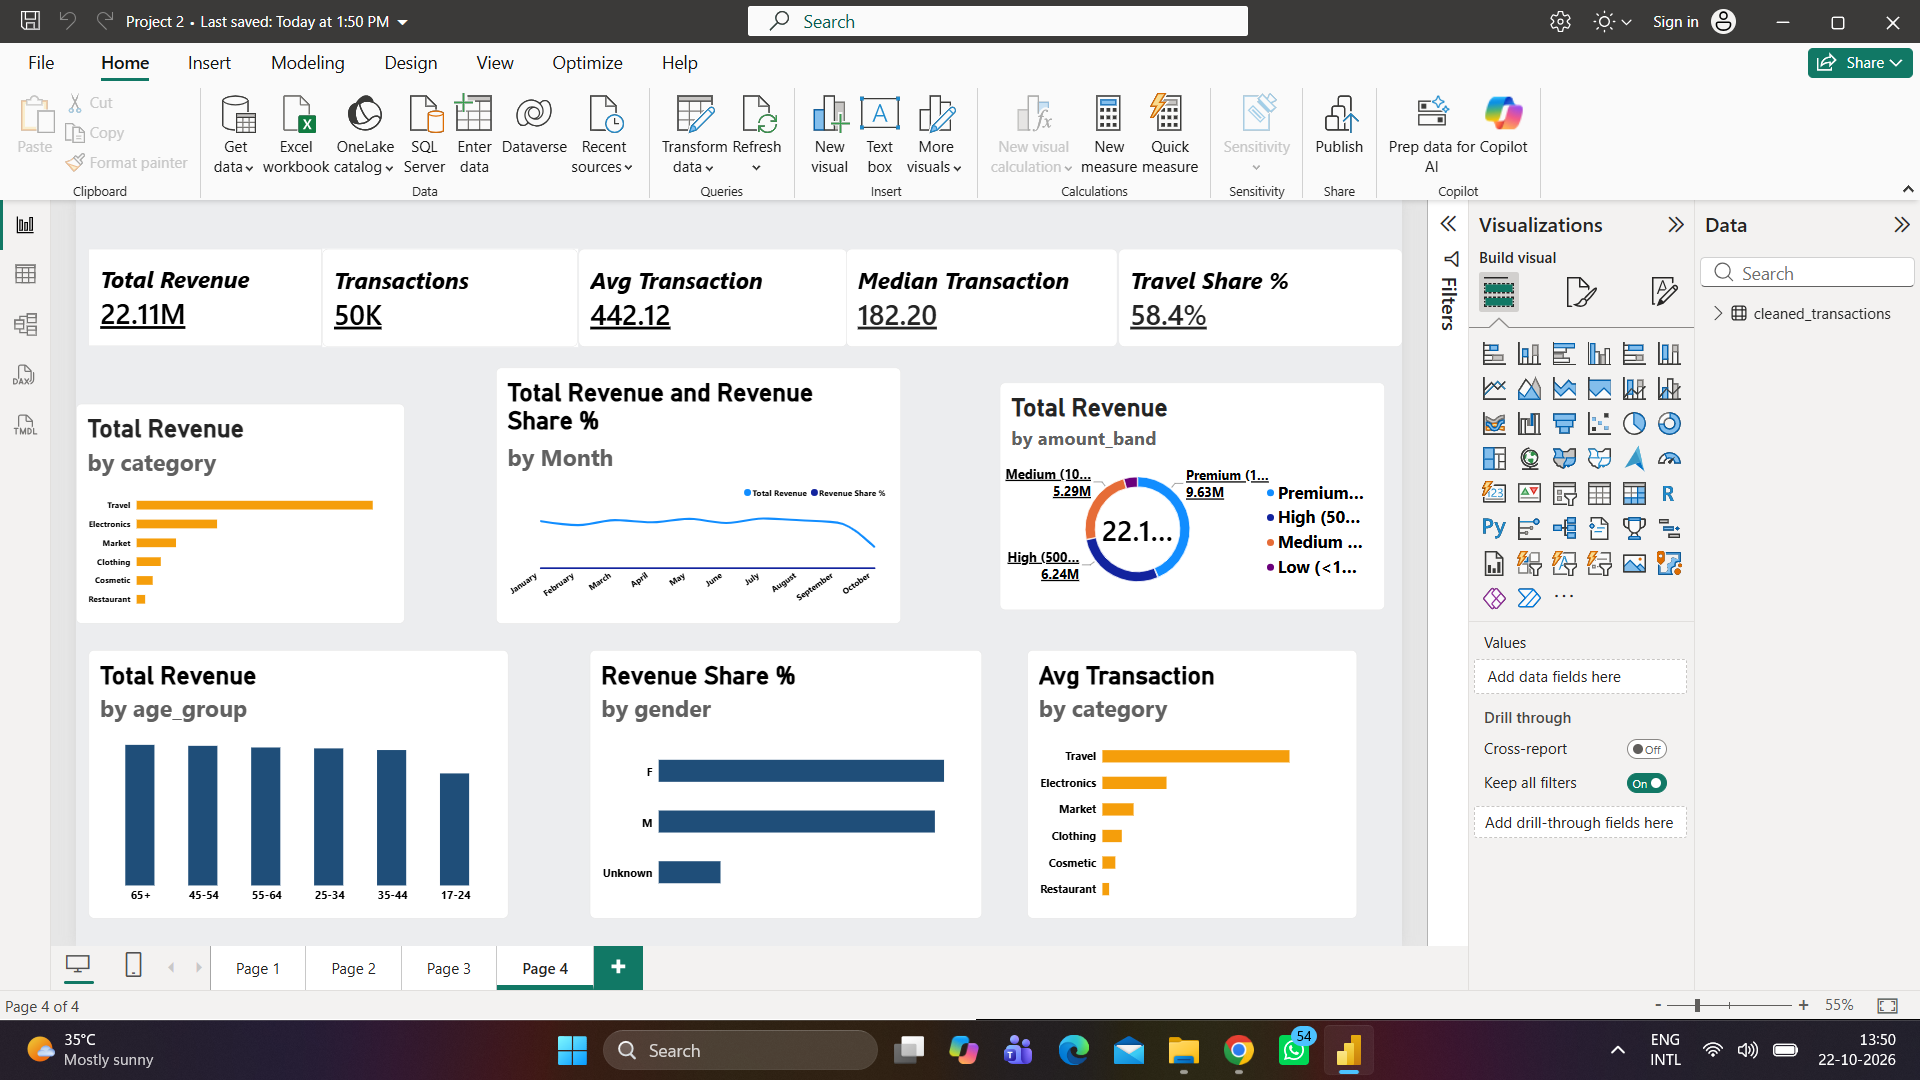

This screenshot's page, from the dashboard's own definition file:
{"tool":"powerbi","page":{"name":"Page 1","canvas":[1920,1080],"ordinal":0},"visuals":[{"type":"cardVisual","title":"Transactions","fields":{"Data":["cleaned_transactions.Transactions"]},"box":[356.5,70.6,370.5,142],"z":0},{"type":"cardVisual","fields":{"Data":["cleaned_transactions.Total Revenue"]},"box":[0,70.6,356.5,141.2],"z":1},{"type":"cardVisual","fields":{"Data":["cleaned_transactions.Avg Transaction"]},"box":[727.5,70.6,389,142],"z":2},{"type":"cardVisual","fields":{"Data":["cleaned_transactions.Median Transaction"]},"box":[1114.8,70.6,393.1,142],"z":3},{"type":"cardVisual","fields":{"Data":["cleaned_transactions.Travel Share %"]},"box":[1509.3,70.6,411.7,142],"z":4},{"type":"barChart","fields":{"Category":["cleaned_transactions.category"],"Y":["cleaned_transactions.Total Revenue"]},"box":[18.1,242.5,571.9,371],"z":5},{"type":"lineChart","fields":{"Category":["cleaned_transactions.date.Variation.Date Hierarchy.Month"],"Y":["cleaned_transactions.Total Revenue","cleaned_transactions.Revenue Share %"]},"box":[608,242.5,662.3,371],"z":6},{"type":"donutChart","fields":{"Category":["cleaned_transactions.amount_band"],"Y":["cleaned_transactions.Total Revenue"]},"box":[1312,242.5,582.7,351.1],"z":7},{"type":"columnChart","fields":{"Category":["cleaned_transactions.age_group"],"Y":["cleaned_transactions.Total Revenue"]},"box":[18.1,651.5,608,389.1],"z":8},{"type":"barChart","fields":{"Category":["cleaned_transactions.gender"],"Y":["cleaned_transactions.Revenue Share %"]},"box":[743.8,651.5,568.2,389.1],"z":9},{"type":"barChart","fields":{"Category":["cleaned_transactions.category"],"Y":["cleaned_transactions.Avg Transaction"]},"box":[1377.2,651.5,477.8,389.1],"z":10}]}

Visuals, with their boxes on the page's 1920x1080 design canvas (x1, y1, x2, y2). These are canvas units, not pixel positions in the 1920x1080 screenshot, which may show the page scaled, cropped or inside an application window:
"Transactions" cardVisual: Rect(356, 71, 727, 213)
cardVisual - cleaned_transactions.Total Revenue: Rect(0, 71, 356, 212)
cardVisual - cleaned_transactions.Avg Transaction: Rect(728, 71, 1116, 213)
cardVisual - cleaned_transactions.Median Transaction: Rect(1115, 71, 1508, 213)
cardVisual - cleaned_transactions.Travel Share %: Rect(1509, 71, 1921, 213)
barChart - cleaned_transactions.category x cleaned_transactions.Total Revenue: Rect(18, 242, 590, 614)
lineChart - cleaned_transactions.date.Variation.Date Hierarchy.Month x cleaned_transactions.Total Revenue: Rect(608, 242, 1270, 614)
donutChart - cleaned_transactions.amount_band x cleaned_transactions.Total Revenue: Rect(1312, 242, 1895, 594)
columnChart - cleaned_transactions.age_group x cleaned_transactions.Total Revenue: Rect(18, 652, 626, 1041)
barChart - cleaned_transactions.gender x cleaned_transactions.Revenue Share %: Rect(744, 652, 1312, 1041)
barChart - cleaned_transactions.category x cleaned_transactions.Avg Transaction: Rect(1377, 652, 1855, 1041)
